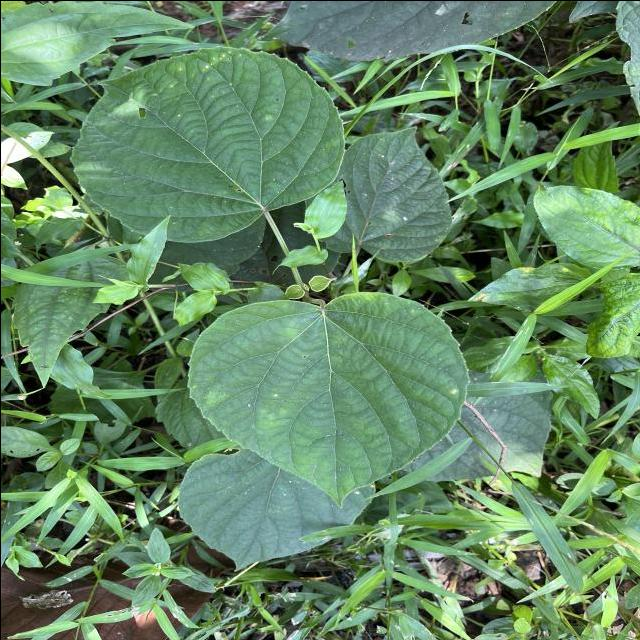Clerodendrum infortunatum: (185, 290, 472, 510), (67, 44, 350, 244), (174, 447, 378, 572), (302, 124, 454, 264)
